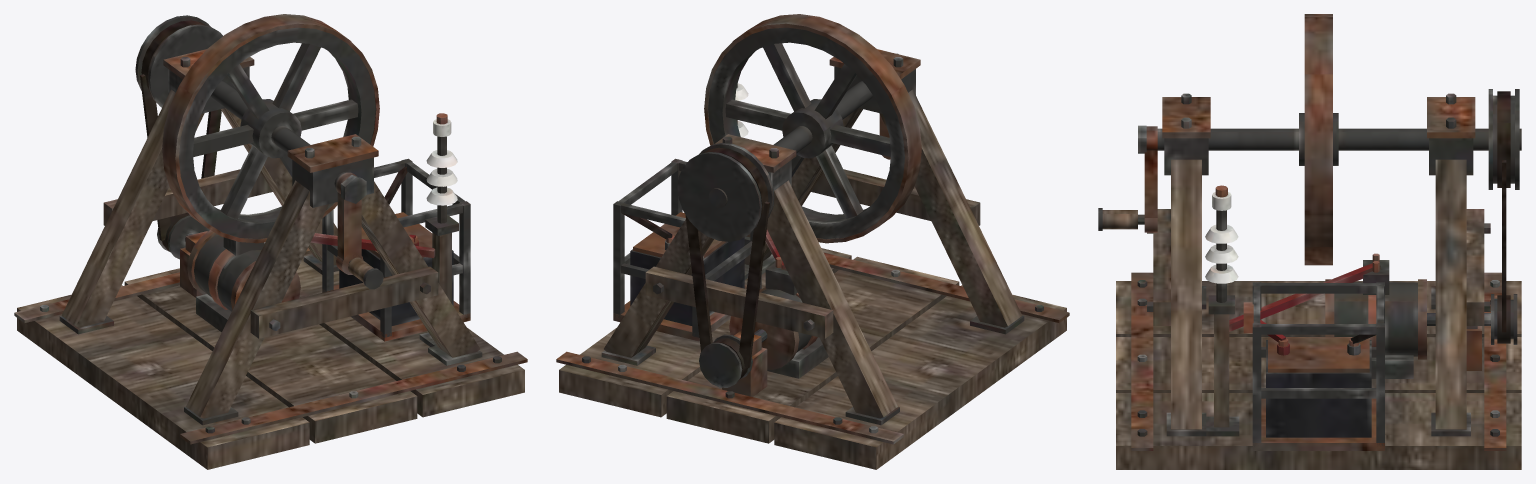
File: feCrank.glb
3 views of the same model, side by side, from view 1: azimuth 30°, elevation 25°; view 2: azimuth 150°, elevation 25°; view 3: azimuth 270°, elevation 25° (orthographic). The views are drawn at different scales.
Parts seen in each view (by area): view 1: feCrank_Base, feCrank_Rotor, feCrank_Module, feCrank_Battery, feCrank_DynamoPulley; view 2: feCrank_Base, feCrank_Rotor, feCrank_Module, feCrank_Battery, feCrank_DynamoPulley; view 3: feCrank_Base, feCrank_Rotor, feCrank_Battery, feCrank_Module, feCrank_DynamoPulley.
Part boxes in pixels (box(x1,y1,x2,y2)): feCrank_Base: box(14, 20, 527, 469); feCrank_Rotor: box(135, 14, 383, 289); feCrank_Module: box(322, 158, 470, 341); feCrank_Battery: box(339, 166, 453, 325); feCrank_DynamoPulley: box(157, 215, 209, 259); feCrank_Base: box(556, 49, 1069, 469); feCrank_Rotor: box(677, 14, 921, 243); feCrank_Module: box(613, 158, 761, 341); feCrank_Battery: box(622, 212, 744, 325); feCrank_DynamoPulley: box(699, 329, 767, 387); feCrank_Base: box(1116, 91, 1521, 469); feCrank_Rotor: box(1098, 14, 1521, 265); feCrank_Battery: box(1260, 319, 1375, 437); feCrank_Module: box(1243, 282, 1384, 450); feCrank_DynamoPulley: box(1427, 294, 1517, 344).
Size of the model in its own units: 0.94 by 0.905 by 0.96.
1 material, 1 textured.
